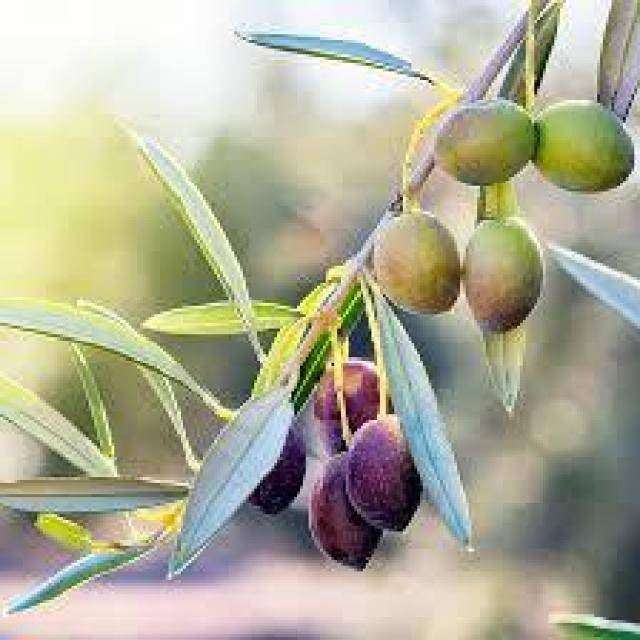Healthy: (460, 217, 543, 331), (535, 102, 635, 190), (369, 214, 457, 311), (438, 101, 538, 186), (346, 420, 420, 529)
